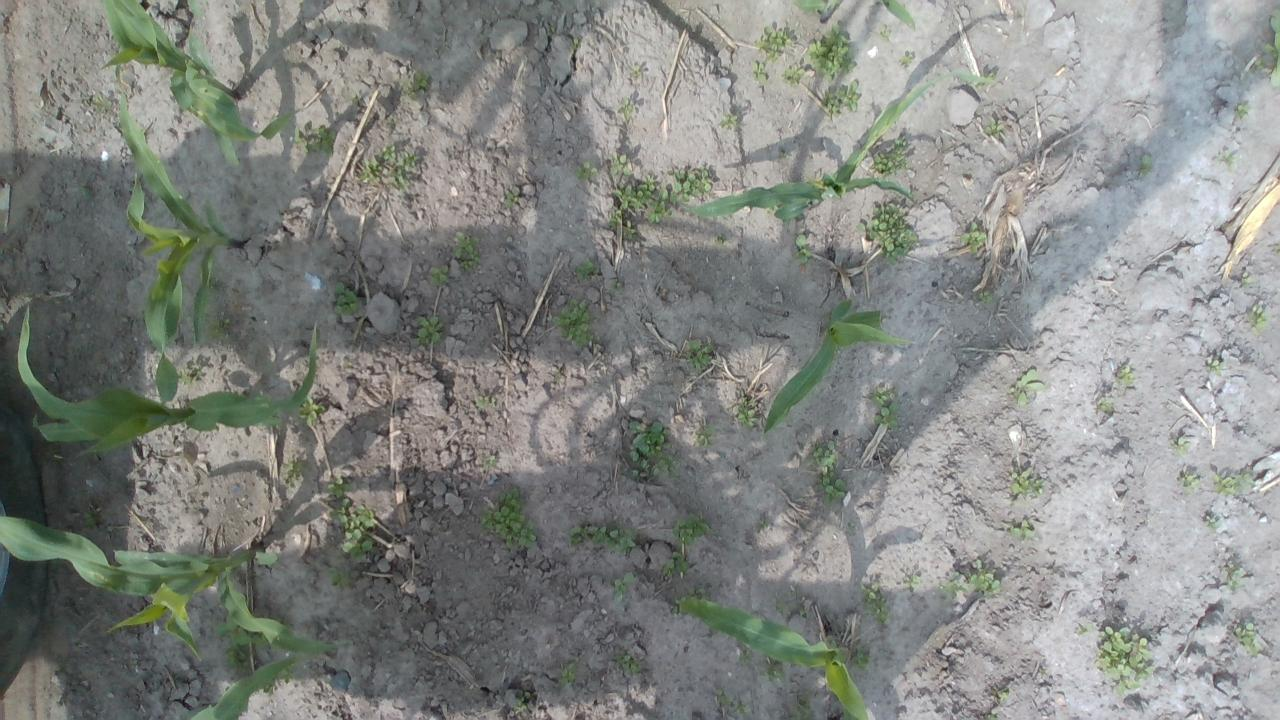Maize: (0, 514, 351, 652), (16, 300, 320, 456), (112, 63, 250, 406), (685, 70, 993, 218), (97, 0, 301, 170), (676, 596, 870, 720), (764, 298, 916, 430), (178, 654, 307, 720), (788, 0, 914, 27), (188, 0, 230, 21)
Weeds: (1094, 624, 1157, 696), (856, 202, 920, 266), (478, 487, 538, 550), (212, 614, 269, 676), (622, 420, 678, 480), (330, 498, 378, 564), (938, 559, 1002, 606), (804, 438, 847, 507), (613, 174, 672, 224), (807, 23, 857, 82), (565, 520, 638, 556), (553, 298, 596, 352), (666, 166, 712, 212), (866, 384, 902, 432), (1260, 8, 1280, 88), (753, 25, 792, 64), (822, 80, 862, 118), (871, 138, 908, 178), (1010, 368, 1046, 408), (858, 583, 892, 625), (294, 125, 336, 158), (671, 512, 710, 547), (386, 153, 420, 193), (452, 230, 482, 272), (668, 586, 711, 614), (1212, 472, 1258, 498), (332, 280, 362, 317), (735, 388, 761, 430), (686, 337, 714, 374), (607, 210, 639, 242), (411, 317, 444, 347), (1009, 468, 1044, 496), (282, 452, 311, 485), (785, 690, 816, 720), (1235, 622, 1262, 656), (960, 221, 987, 254), (849, 642, 874, 676), (661, 550, 690, 579), (176, 360, 205, 388), (298, 395, 325, 425), (400, 71, 428, 99), (614, 650, 644, 675), (327, 564, 352, 591), (792, 234, 813, 266), (359, 156, 382, 185), (213, 315, 235, 345), (1248, 304, 1270, 334), (573, 160, 600, 184), (1214, 150, 1240, 174), (574, 256, 600, 280), (612, 572, 634, 600), (759, 660, 787, 682), (1178, 471, 1202, 496), (780, 64, 805, 88), (1226, 563, 1249, 589), (556, 660, 576, 689), (608, 152, 632, 176), (426, 263, 449, 286), (1170, 434, 1192, 458), (693, 425, 717, 447), (328, 475, 352, 496), (511, 688, 532, 712), (1009, 518, 1034, 538), (749, 60, 768, 86), (900, 570, 922, 592), (984, 116, 1004, 140), (1116, 364, 1136, 387), (502, 184, 522, 207), (1204, 356, 1225, 376), (616, 98, 635, 120), (771, 594, 790, 616), (277, 664, 296, 684), (94, 92, 112, 113), (714, 688, 733, 706), (1203, 514, 1223, 531), (378, 144, 396, 162), (737, 647, 754, 666), (1096, 396, 1116, 412), (1138, 154, 1152, 176), (719, 113, 738, 129), (731, 700, 750, 716), (259, 678, 275, 696), (474, 395, 496, 408), (81, 181, 95, 199), (1236, 103, 1252, 118), (978, 289, 994, 304), (482, 455, 498, 469), (1076, 622, 1092, 636), (788, 584, 804, 598), (995, 688, 1010, 702), (898, 53, 912, 67), (1252, 57, 1265, 72), (755, 518, 767, 534), (880, 23, 890, 42), (1240, 271, 1253, 284), (610, 279, 623, 292), (714, 232, 727, 244), (985, 708, 998, 720), (630, 64, 642, 77), (846, 522, 859, 534), (764, 204, 780, 213), (1039, 665, 1050, 678), (570, 37, 580, 51), (552, 372, 562, 384), (350, 92, 362, 102), (986, 70, 996, 80), (546, 26, 556, 36), (780, 150, 789, 160), (796, 607, 806, 616)
